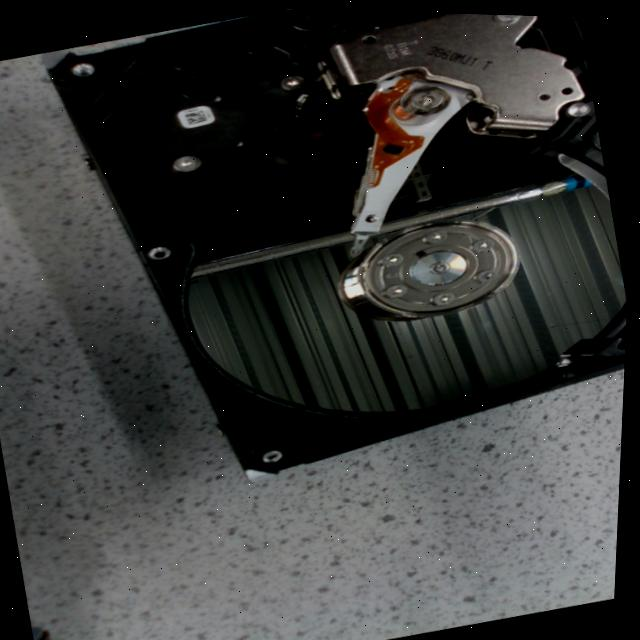actuator arm: (352, 65, 478, 247)
actuator axis: (406, 87, 444, 108)
case: (49, 7, 630, 474)
magnet: (330, 10, 583, 132)
pcb connector: (155, 71, 315, 163)
platter: (192, 122, 626, 409)
platter holder: (345, 217, 520, 318)
screw: (173, 153, 201, 170), (281, 73, 305, 88), (380, 251, 404, 263), (434, 290, 457, 302), (387, 282, 408, 295), (424, 229, 447, 240), (494, 11, 521, 19), (473, 238, 491, 248), (477, 267, 493, 278)
